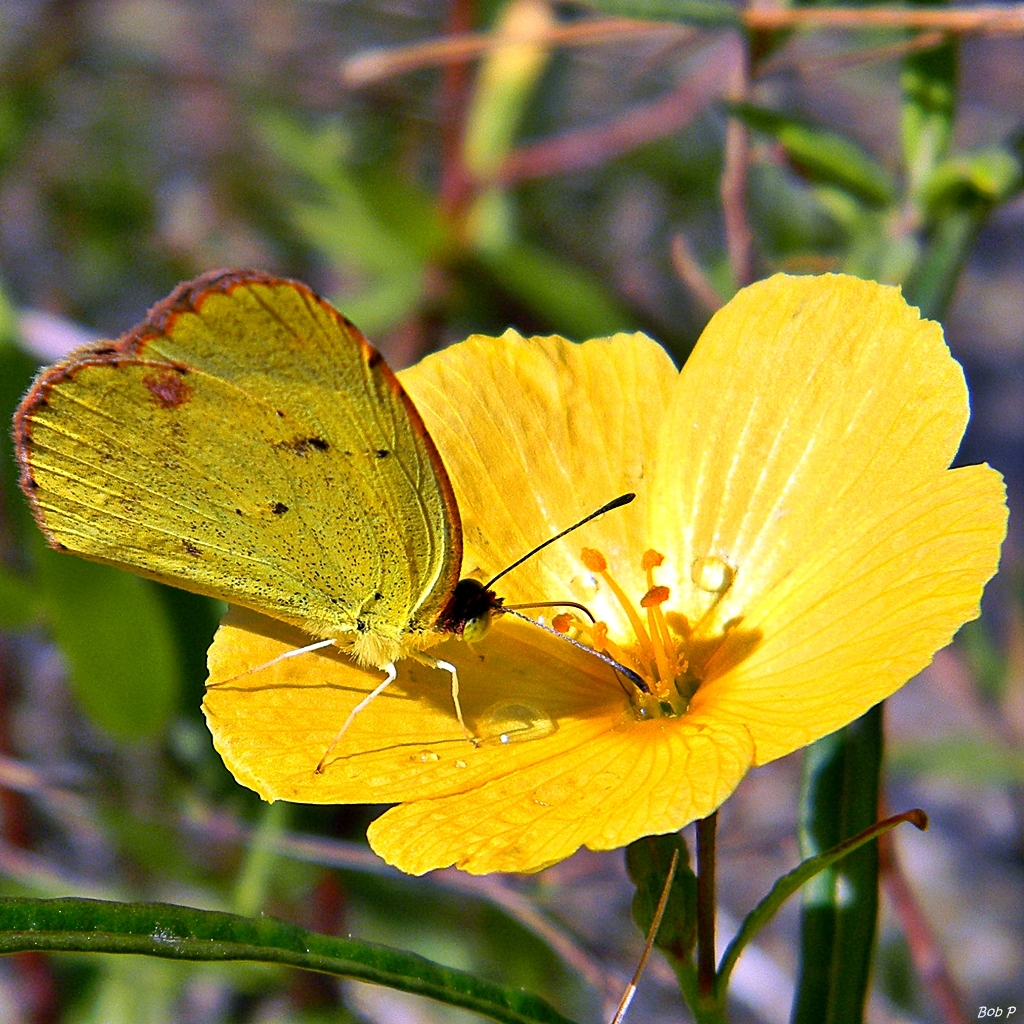Butterfly: (8, 242, 493, 733)
